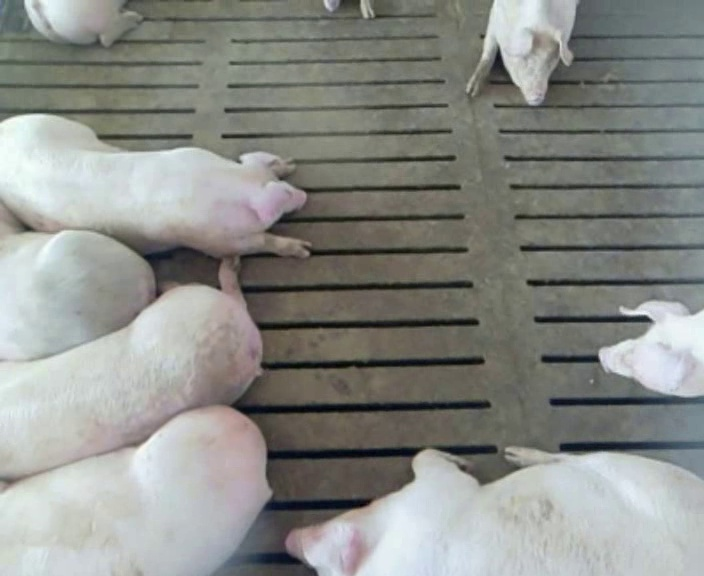pig: (0, 257, 261, 478), (286, 448, 703, 574), (0, 406, 270, 574), (466, 2, 576, 105), (599, 300, 703, 396), (24, 1, 142, 46)
